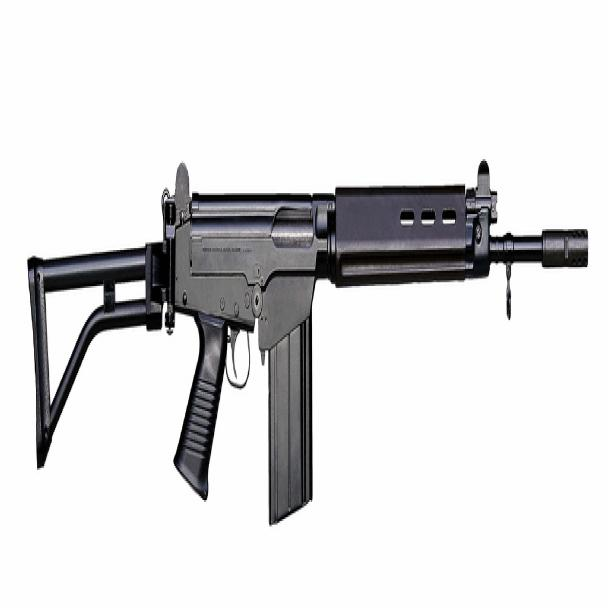Gun: (23, 142, 587, 540)
